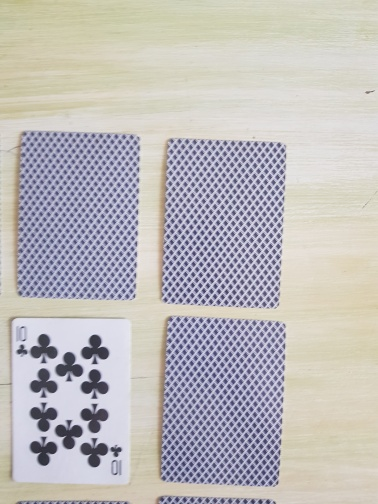ten: (9, 316, 132, 488)
